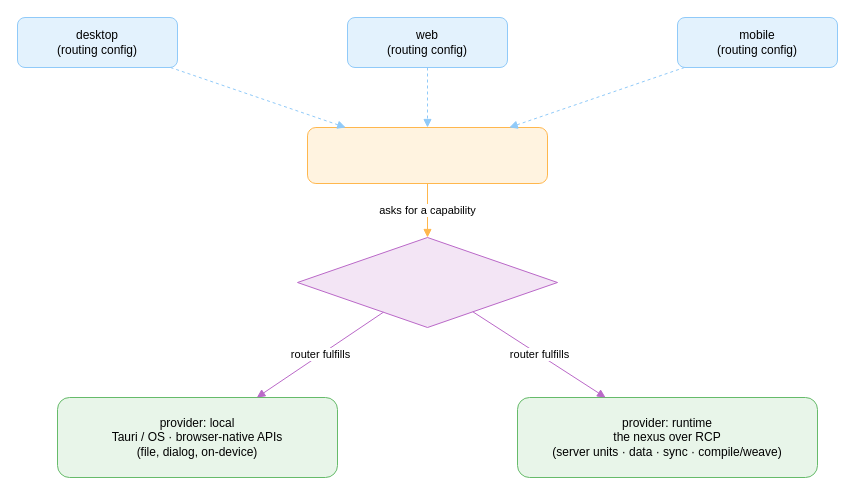
The diagram is 855 pixels wide and 495 high, and some of its shapes have lost their labels. Each missing label, with the centre of its shape:
Host / Dock capability seam (the single membrane — invoke): the point at 427,282
One frontend (the UI): the point at 427,155
